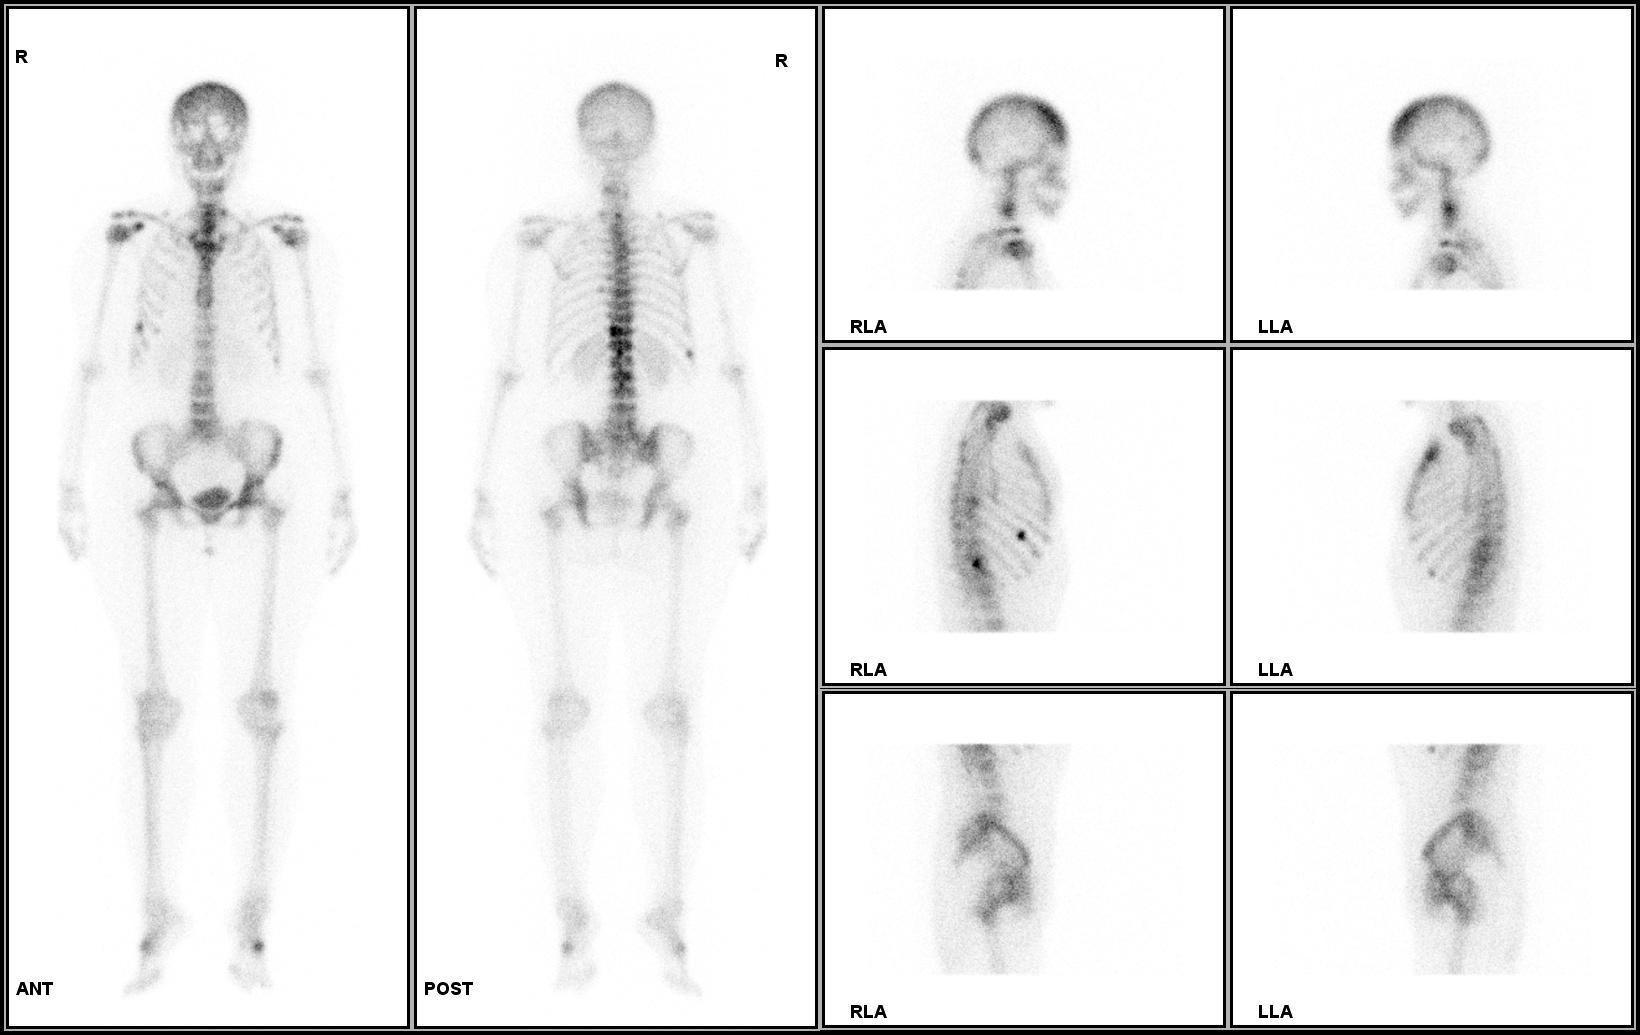person: (7, 4, 817, 1029)
